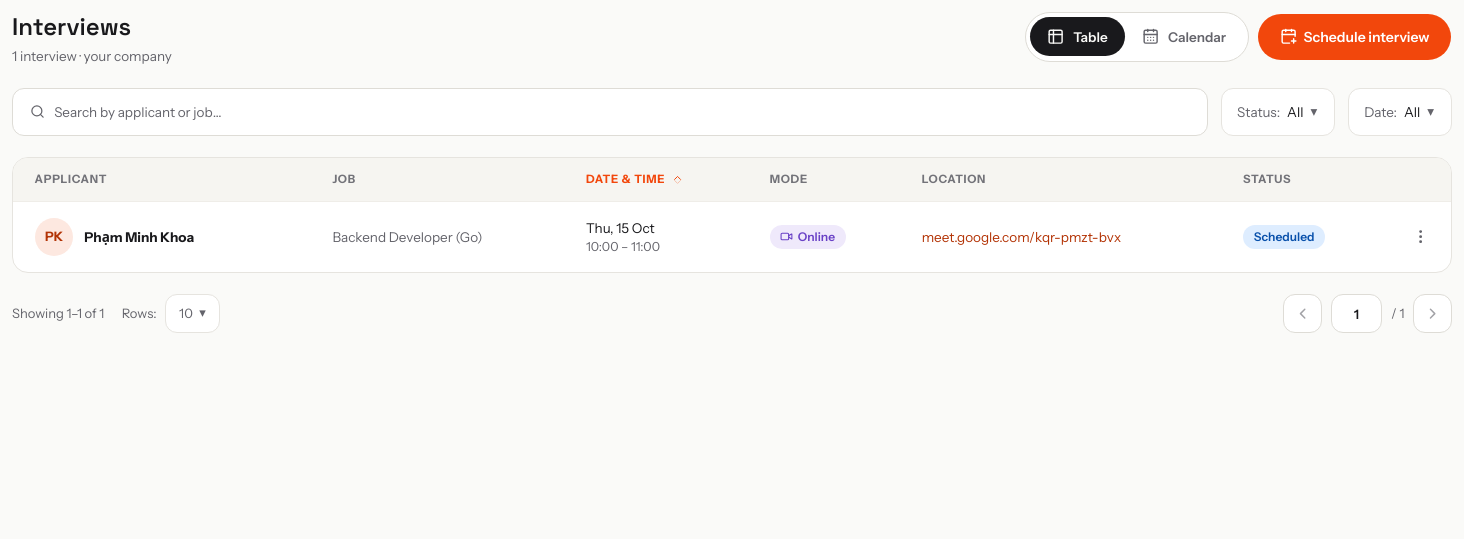
Scenario: Interview status actions in the table › offers an upcoming interview to be cancelled, and completing only after it ends
Click the button named "Actions for Phạm Minh Khoa": (1421, 237) [1404, 220, 1438, 254]
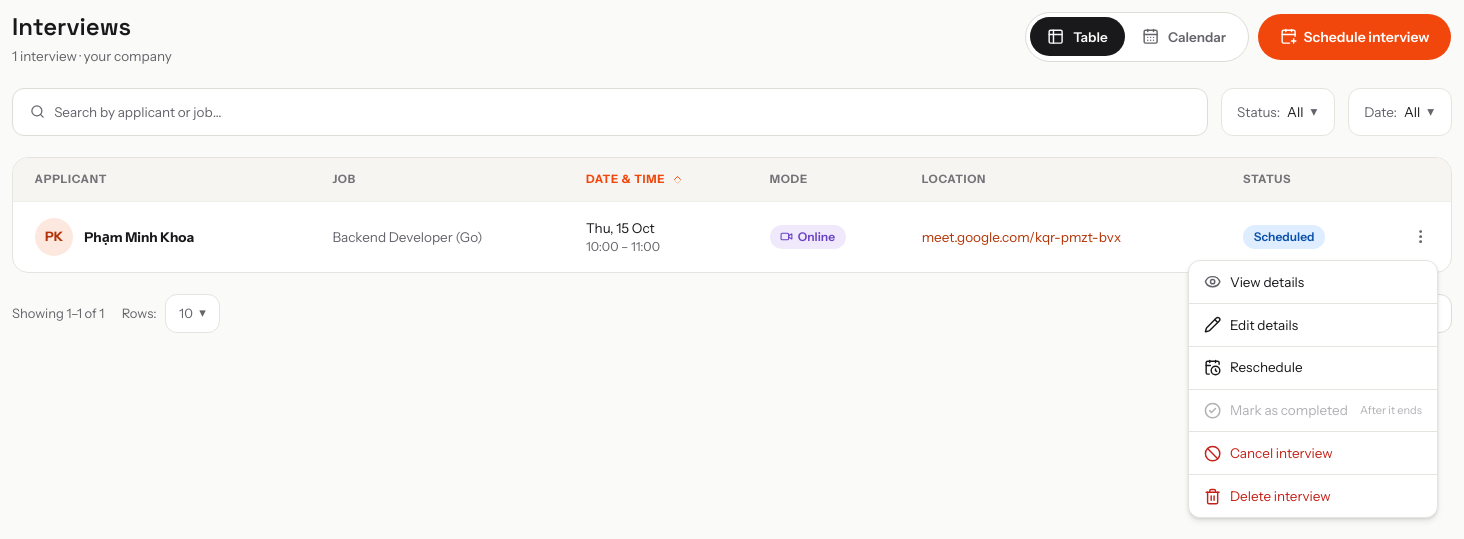
expect the menu item "View details" is shown: met, box [1204, 273, 1304, 291]
expect the menu item "Mark as completed After it ends" is shown: met, box [1189, 388, 1437, 431]
expect the menu item "Cancel interview" is shown: met, box [1189, 431, 1437, 474]
